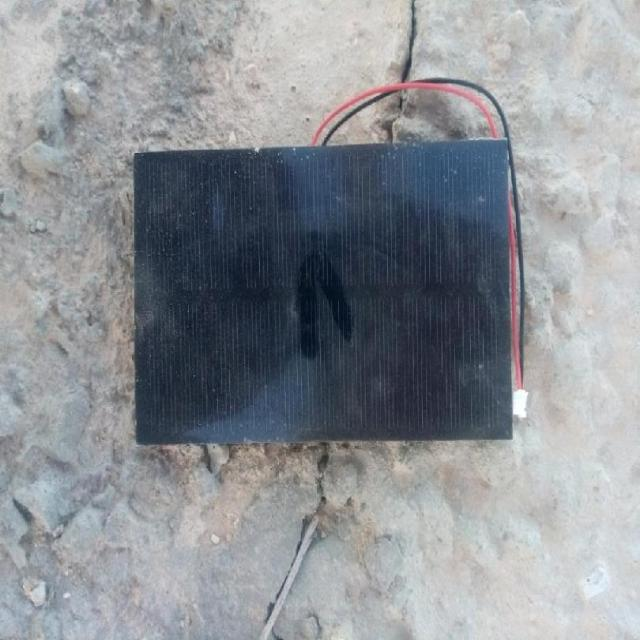faulty: (147, 150, 501, 418)
